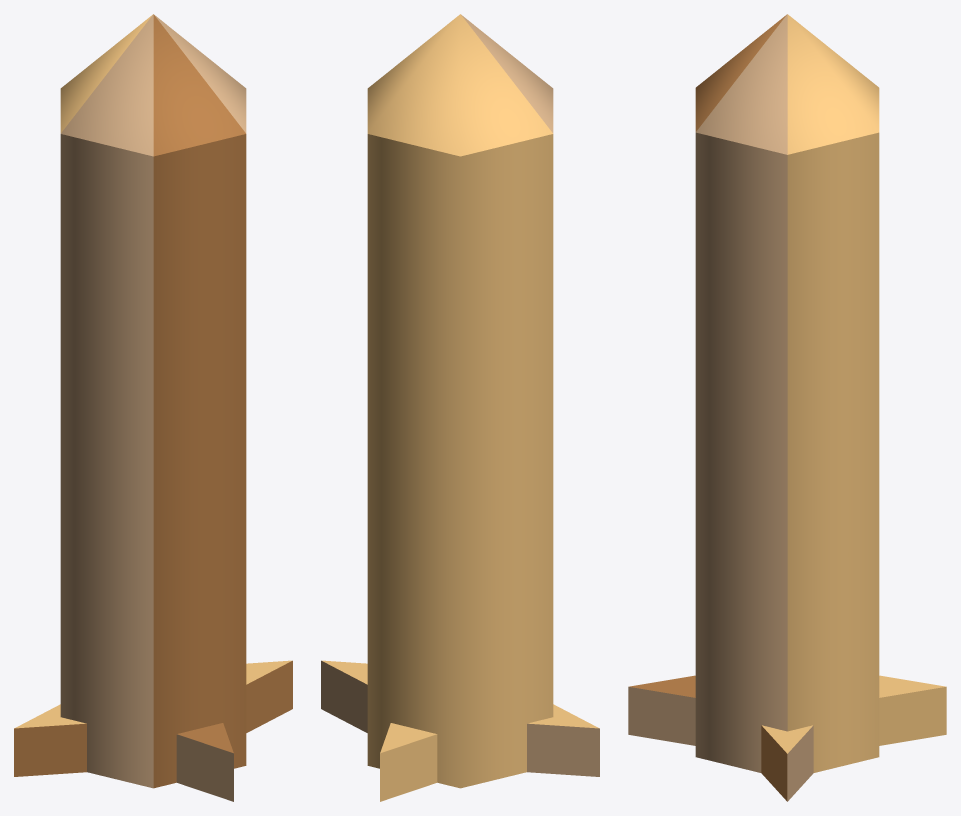
The model's file is Solo.MissileMesh.BrownDesert.glb.
3 views of the same model, side by side, from view 1: azimuth 30°, elevation 25°; view 2: azimuth 150°, elevation 25°; view 3: azimuth 270°, elevation 25° (orthographic).
Visible parts, largest first — view 1: Solo.MissileMesh.BrownDesert; view 2: Solo.MissileMesh.BrownDesert; view 3: Solo.MissileMesh.BrownDesert.
Boxes of the visible parts, <box> form: Solo.MissileMesh.BrownDesert: <box>14,14,292,801</box>; Solo.MissileMesh.BrownDesert: <box>321,14,599,801</box>; Solo.MissileMesh.BrownDesert: <box>628,14,946,801</box>.
Size of the model in its own units: 0.6 by 1.5 by 0.6.
Materials: 1 (1 with a texture image).
